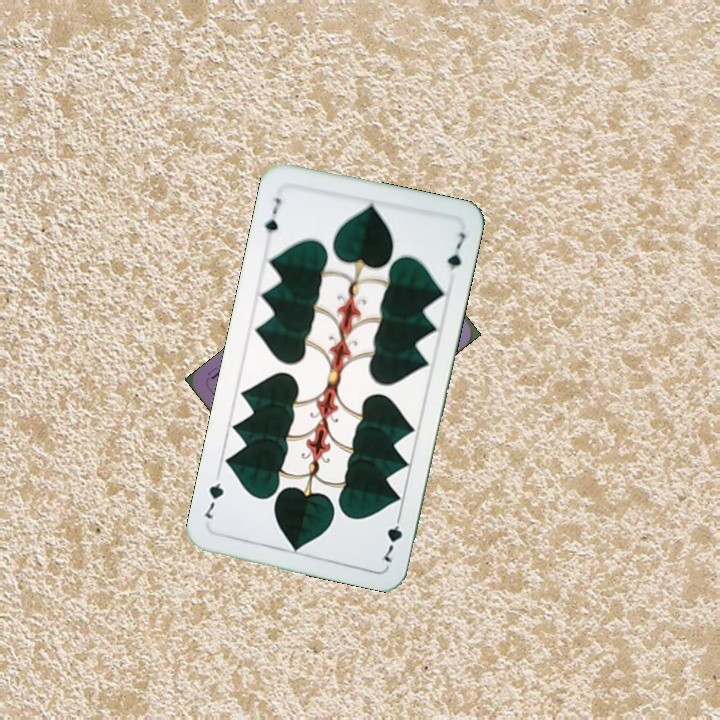G7: (377, 508, 405, 566), (260, 193, 283, 236)
